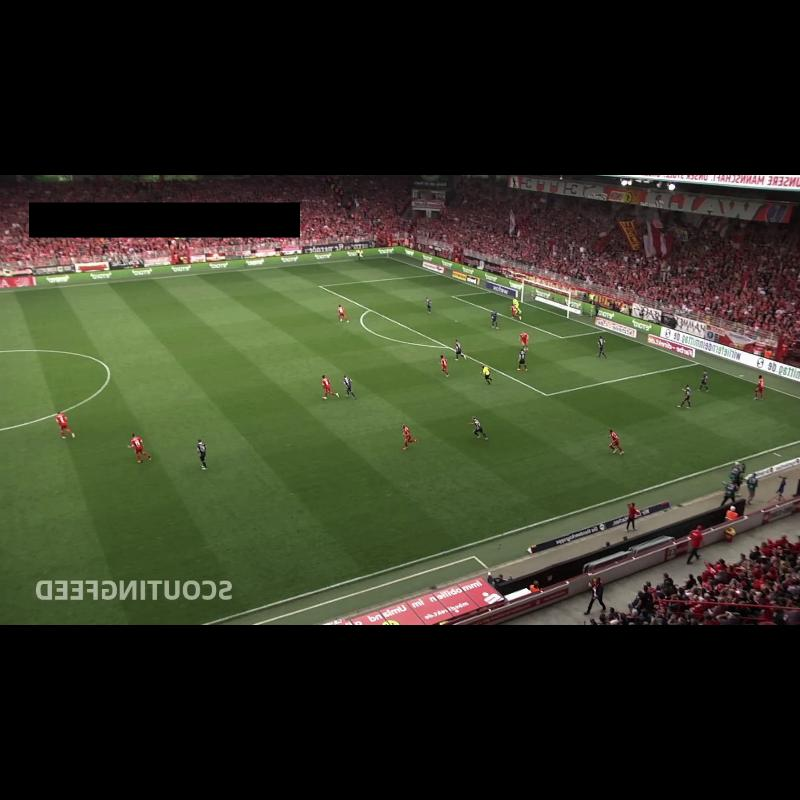cross_recipient_zone: (320, 274, 698, 395)
crossing_player_zone: (419, 363, 800, 516), (197, 257, 438, 296)
pitch: (0, 257, 800, 625)
